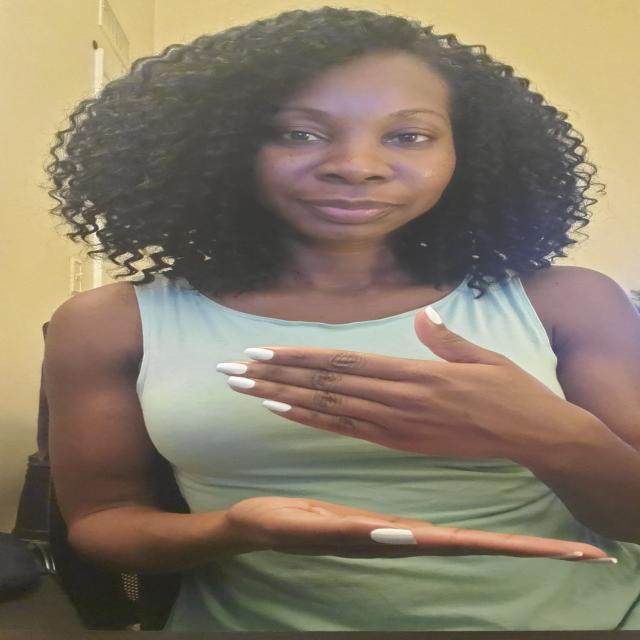Paper: (215, 304, 583, 466)
